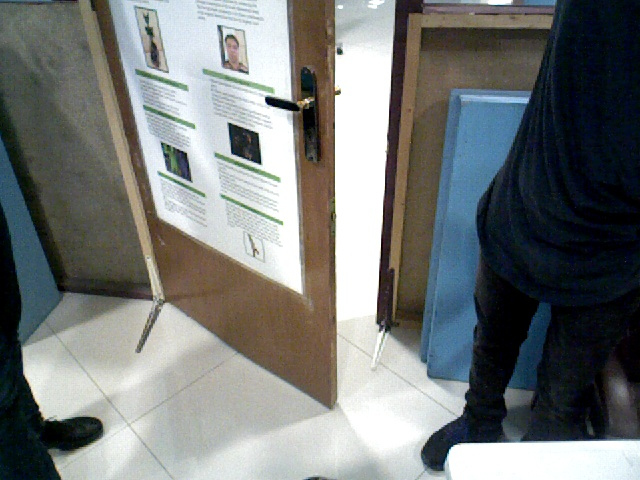door_handle: (265, 64, 325, 166)
